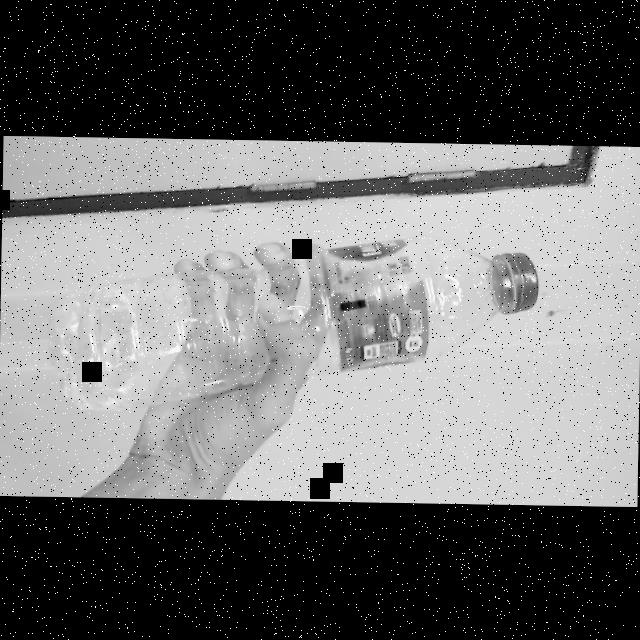plastic_bottle: (38, 228, 554, 422)
